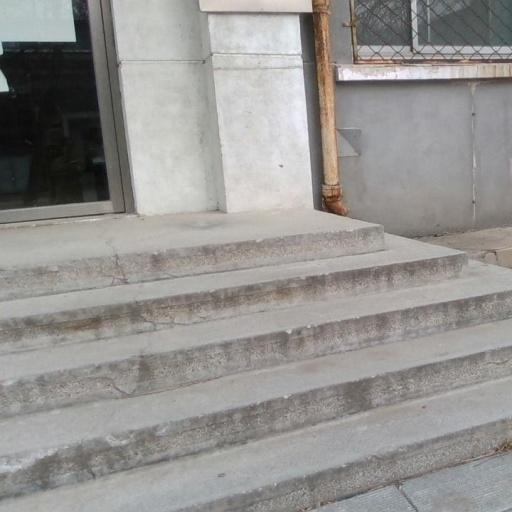stairs: (0, 211, 511, 511)
